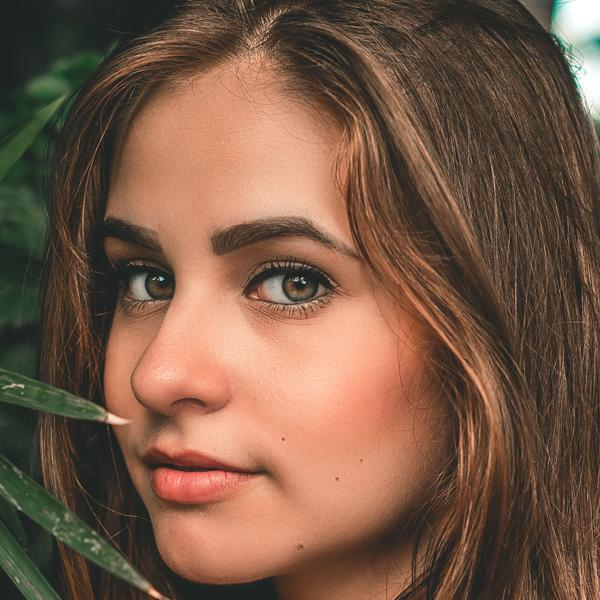Eyes: (232, 249, 345, 324), (106, 251, 186, 321)
